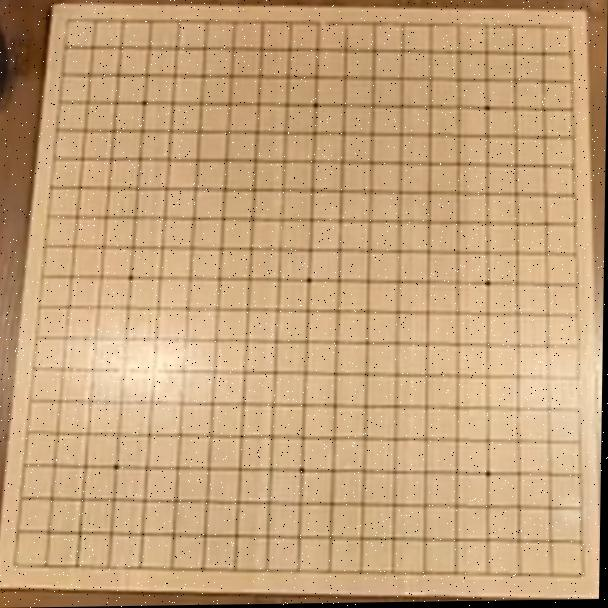corners: (0, 536, 41, 583), (565, 545, 598, 599), (549, 14, 587, 56), (55, 0, 86, 43)
